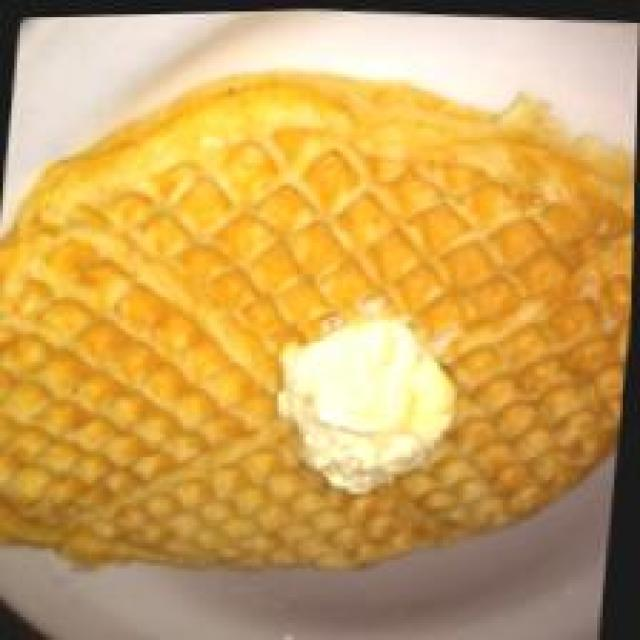Waffles: (0, 37, 640, 612)
